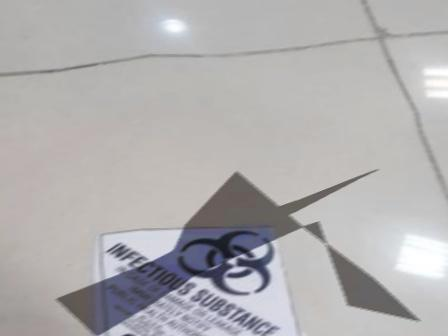infectious-substance: (96, 223, 288, 336)
